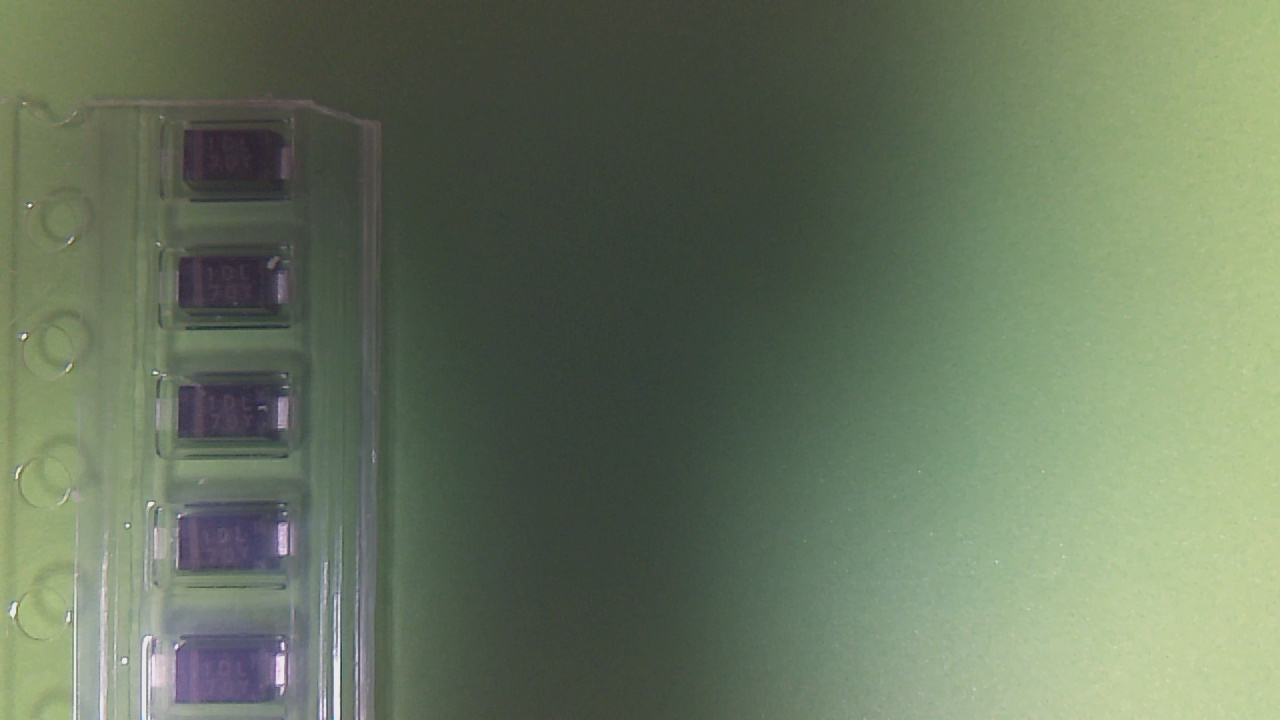Diode: (166, 380, 299, 455), (176, 254, 307, 326), (162, 641, 288, 709), (168, 138, 291, 204), (165, 515, 289, 580)
